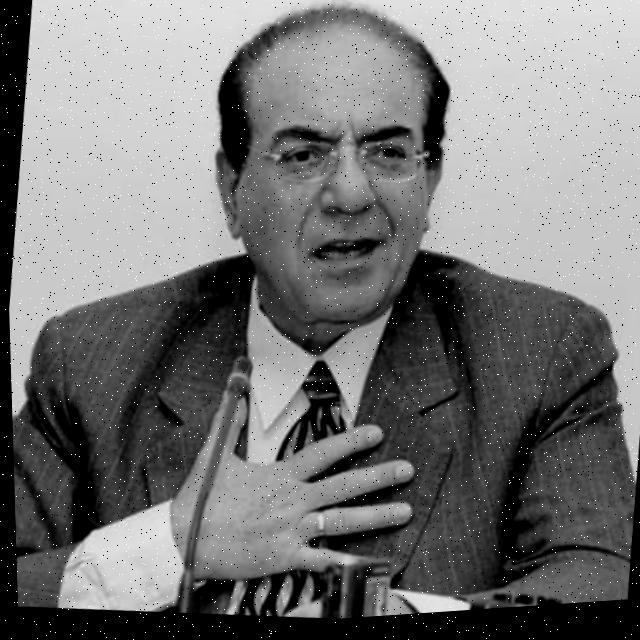face: (197, 13, 456, 351)
